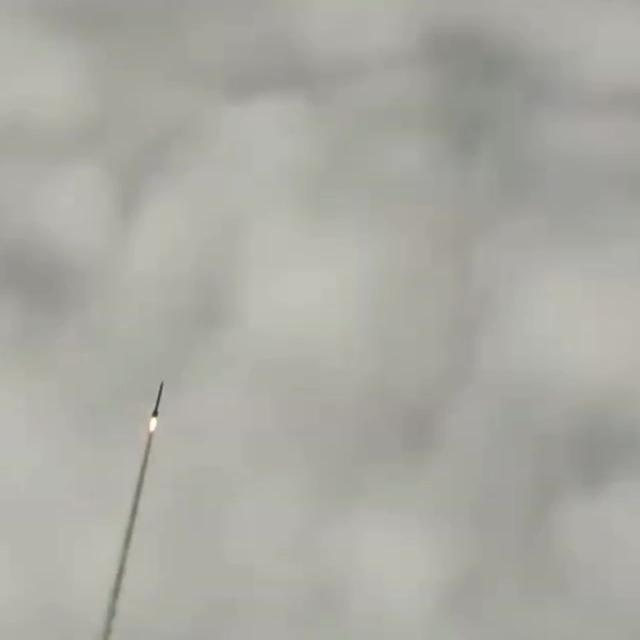smoke_trail_with_rocket: (99, 383, 164, 640)
